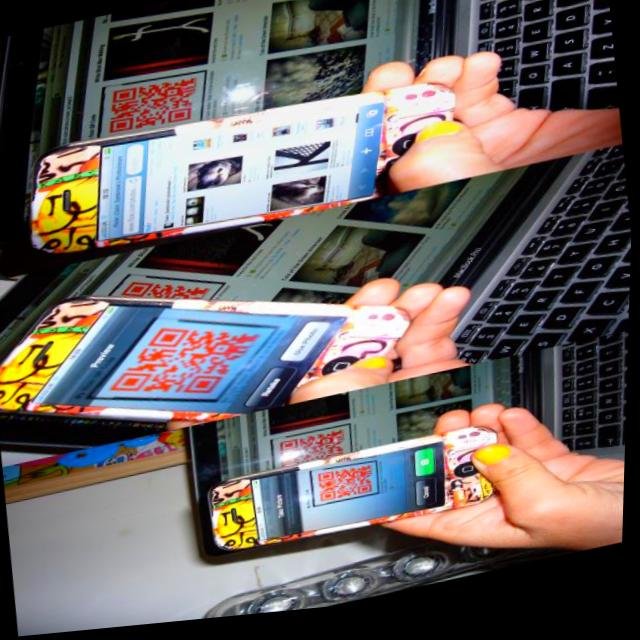qrcode: (105, 312, 269, 418), (105, 77, 200, 139), (120, 271, 212, 318), (283, 436, 348, 473), (320, 469, 377, 508)
